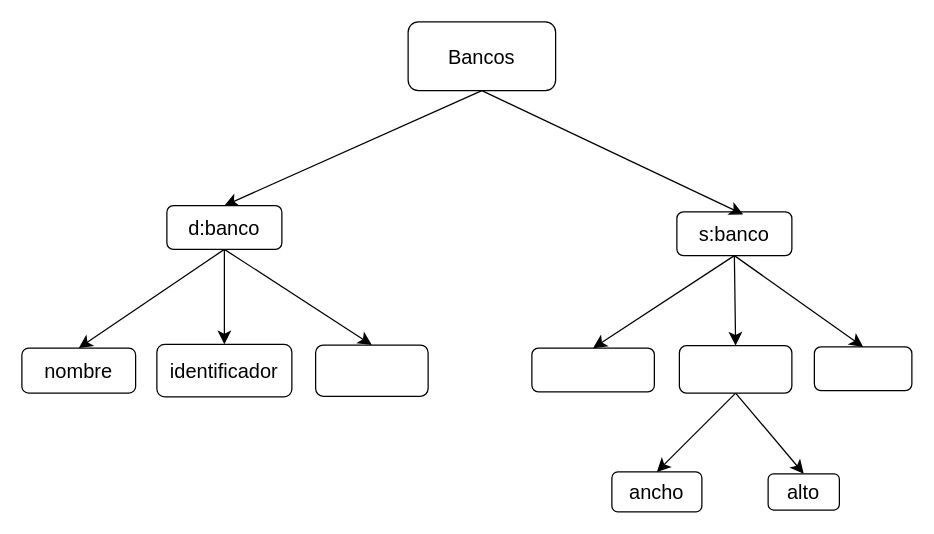
The diagram is 934 pixels wide and 534 high, and some of its shapes have lost their labels. The centre of each missing label's shape, as x and y in pixels:
"cantidad" belongs at point 371,370.
"capacidad" belongs at point 592,369.
"medidas" belongs at point 735,368.
"modelo" belongs at point 862,368.
